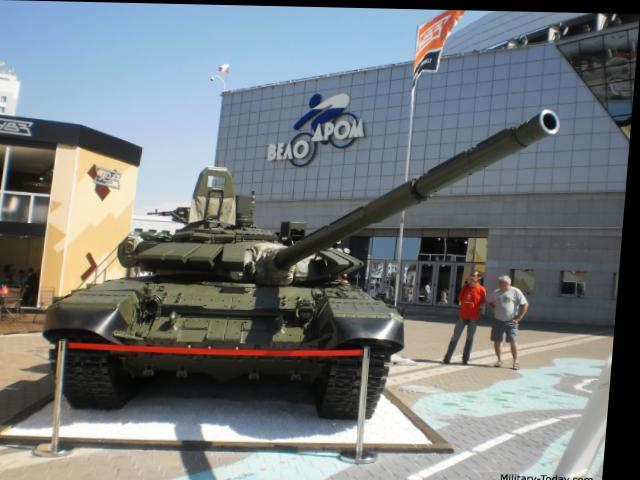other: (488, 266, 536, 362), (447, 265, 492, 364)
tank: (60, 192, 405, 404)
